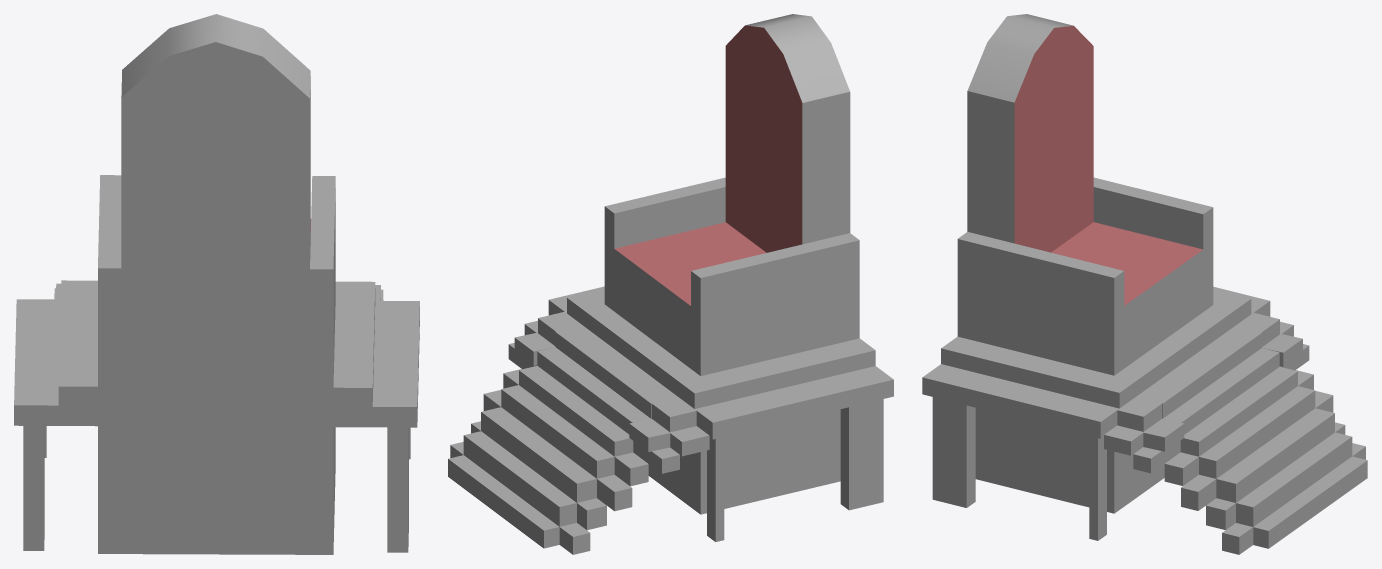
File: tronodeff.fbx
3 renders of one model, left to right at view 1: azimuth 30°, elevation 25°; view 2: azimuth 150°, elevation 25°; view 3: azimuth 270°, elevation 25°, orthographic. The views are drawn at different scales.
Visible parts, largest first — view 1: Trono; view 2: Trono; view 3: Trono.
Boxes of the visible parts, x1,y1,x2,y2 form: Trono: (14,14,419,554); Trono: (448,14,893,554); Trono: (922,14,1367,554).
Size of the model in its own units: 4524 by 4977 by 4737.
